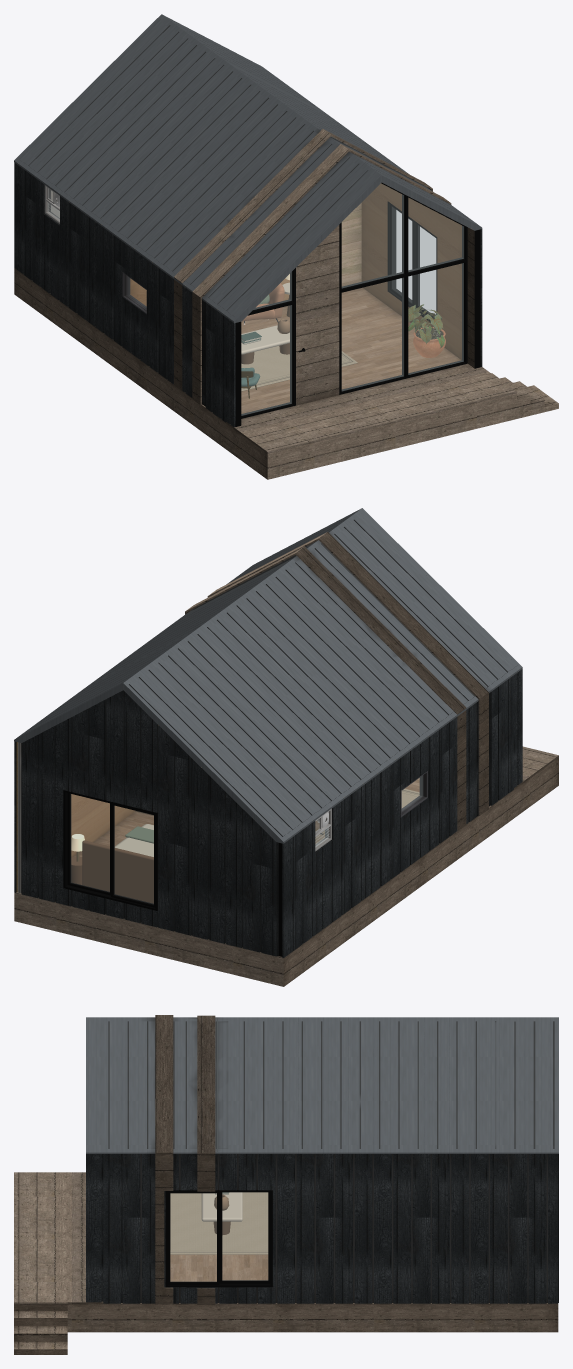
File: forza-5f25ac5b9a32.glb
The picture shows the model from 3 angles, top to bottom: view 1: azimuth 30°, elevation 25°; view 2: azimuth 150°, elevation 25°; view 3: azimuth 270°, elevation 25°; orthographic projection. The views are drawn at different scales.
Visible parts, largest first — view 1: empty_844, empty_838, empty_343, empty_922, empty_328, empty_1000, empty_986, roof band, empty_840, empty_843, empty_1061, empty_849 (+4 smaller); view 2: empty_844, empty_973, empty_922, empty_838, empty_330, roof band, empty_840, Turned walnut, empty_328, empty_923, empty_843, empty_986 (+2 smaller); view 3: empty_1069, empty_844, empty_838, empty_330, empty_843, empty_2, roof band, Linen rug, empty_328, empty_1000, Cream limestone, Raised metal roof seams.
Part boxes in pixels (box(x1,y1,x2,y2)): empty_844: box(20, 18, 475, 316); empty_838: box(14, 187, 558, 479); empty_343: box(127, 183, 463, 415); empty_922: box(14, 162, 235, 427); empty_328: box(235, 182, 480, 426); empty_1000: box(241, 287, 461, 413); empty_986: box(130, 183, 461, 359); roof band: box(174, 129, 447, 297); empty_840: box(14, 14, 481, 321); empty_843: box(14, 14, 480, 322); empty_1061: box(341, 203, 361, 286); empty_849: box(234, 176, 482, 323); empty_844: box(21, 512, 516, 836); empty_973: box(21, 690, 276, 956); empty_922: box(16, 669, 522, 957); empty_838: box(14, 588, 558, 986); empty_330: box(71, 794, 153, 903); roof band: box(185, 532, 488, 713); empty_840: box(15, 508, 521, 841); Turned walnut: box(71, 840, 153, 903); empty_328: box(63, 790, 323, 956); empty_923: box(15, 686, 498, 957); empty_843: box(14, 508, 522, 843); empty_986: box(71, 794, 135, 857); empty_1069: box(86, 1154, 558, 1303); empty_844: box(90, 1021, 552, 1148); empty_838: box(14, 1148, 558, 1354); empty_330: box(171, 1193, 267, 1281); empty_843: box(86, 1017, 558, 1153); empty_2: box(140, 1154, 547, 1302); roof band: box(155, 1015, 215, 1153); Linen rug: box(170, 1192, 268, 1254); empty_328: box(165, 1190, 272, 1287); empty_1000: box(170, 1254, 268, 1281); Cream limestone: box(201, 1192, 242, 1221); Raised metal roof seams: box(216, 1018, 419, 1152).
Bounding box in the file's own units: 6.2 × 4.99 × 9.31.
67 materials, 40 textured.
